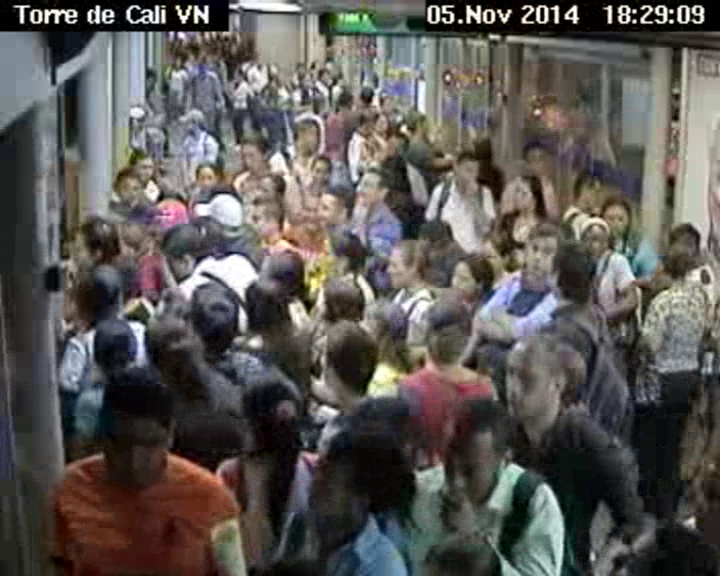person: (304, 424, 417, 545), (96, 365, 180, 483), (439, 393, 524, 507), (499, 334, 589, 433), (238, 371, 314, 474), (141, 308, 213, 398), (316, 322, 386, 408), (417, 522, 510, 576), (417, 296, 475, 377), (542, 238, 603, 310), (187, 283, 241, 361), (89, 319, 141, 392), (156, 220, 214, 283), (242, 276, 296, 343), (305, 274, 371, 326), (67, 215, 121, 272), (387, 233, 438, 293), (523, 219, 568, 286), (189, 190, 245, 241), (317, 227, 371, 277), (449, 251, 502, 301), (258, 249, 310, 292), (662, 220, 708, 267), (353, 165, 397, 210), (506, 175, 552, 218), (110, 164, 152, 210), (250, 193, 288, 243), (450, 148, 487, 199), (569, 167, 608, 215), (476, 224, 517, 269), (599, 193, 636, 242), (315, 186, 356, 229), (239, 129, 273, 175), (576, 216, 617, 253), (124, 148, 158, 181), (521, 136, 547, 176), (191, 159, 220, 193), (258, 172, 289, 201), (309, 153, 332, 191), (179, 106, 210, 134), (384, 131, 410, 158), (409, 110, 435, 136), (356, 109, 380, 135), (337, 89, 355, 109), (360, 86, 377, 106), (232, 70, 246, 83), (173, 54, 182, 71)
